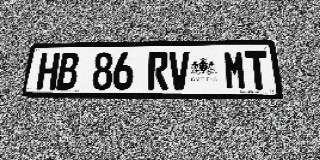6: (112, 52, 134, 90)
8: (91, 52, 114, 90)
B: (56, 53, 80, 90)
H: (36, 53, 60, 90)
M: (223, 51, 247, 90)
R: (148, 51, 168, 90)
T: (245, 50, 270, 90)
V: (169, 51, 190, 90)
